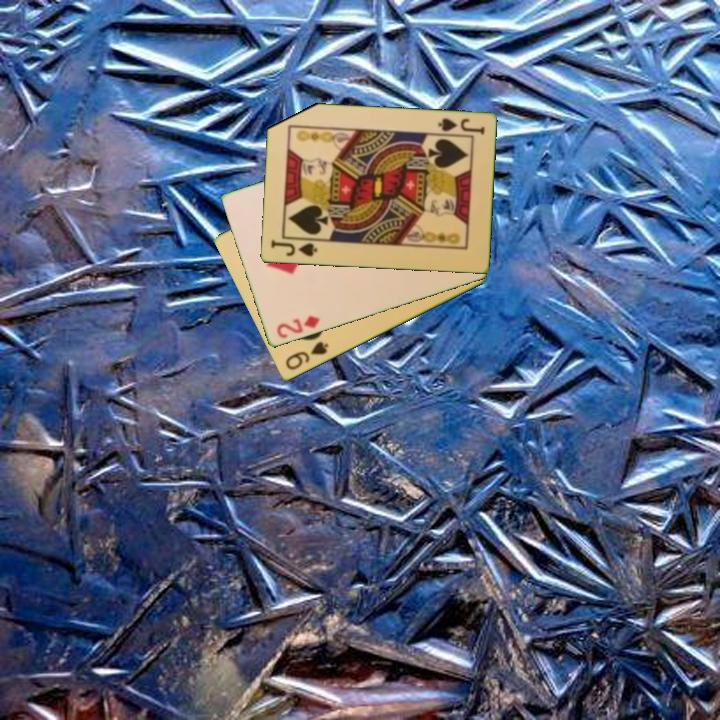2d: (273, 312, 323, 342)
9s: (281, 338, 331, 374)
Js: (267, 237, 320, 260), (434, 115, 487, 138)
